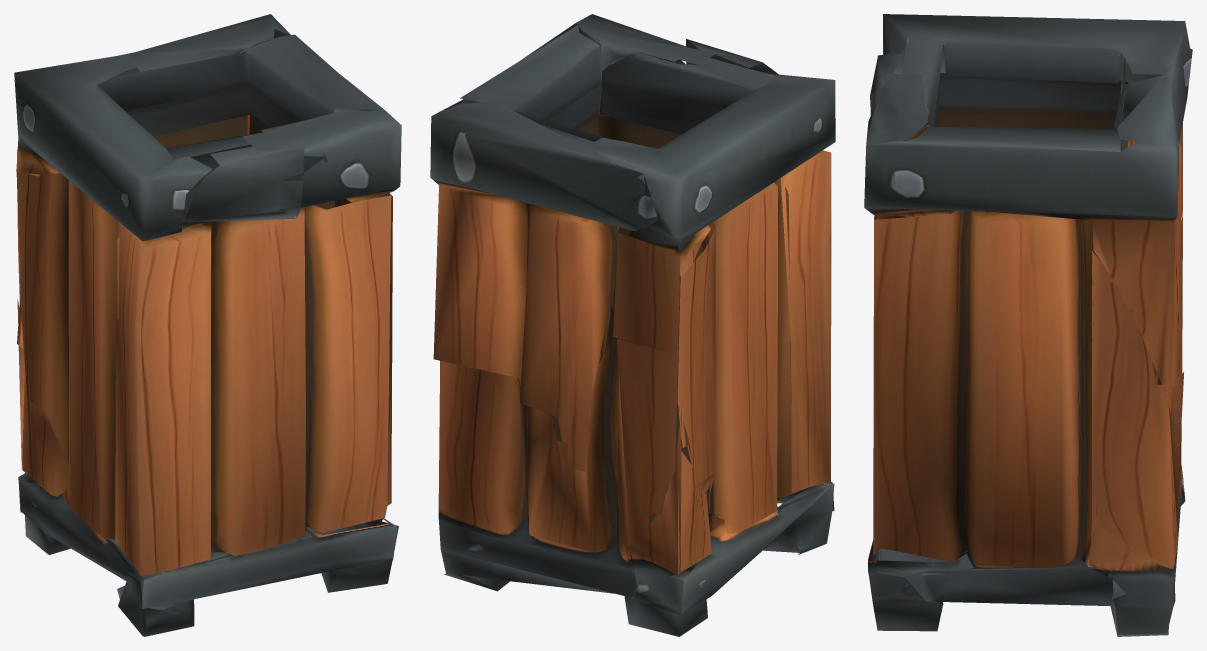
The picture shows the model from 3 angles, left to right: view 1: azimuth 30°, elevation 25°; view 2: azimuth 150°, elevation 25°; view 3: azimuth 270°, elevation 25°; orthographic projection. The views are drawn at different scales.
Visible parts, largest first — view 1: quad; view 2: quad; view 3: quad.
Boxes of the visible parts, x1,y1,x2,y2 form: quad: [14, 14, 401, 636]; quad: [430, 14, 835, 636]; quad: [864, 14, 1192, 636].
Size of the model in its own units: 65.93 by 110 by 66.11.
1 material, 1 textured.
